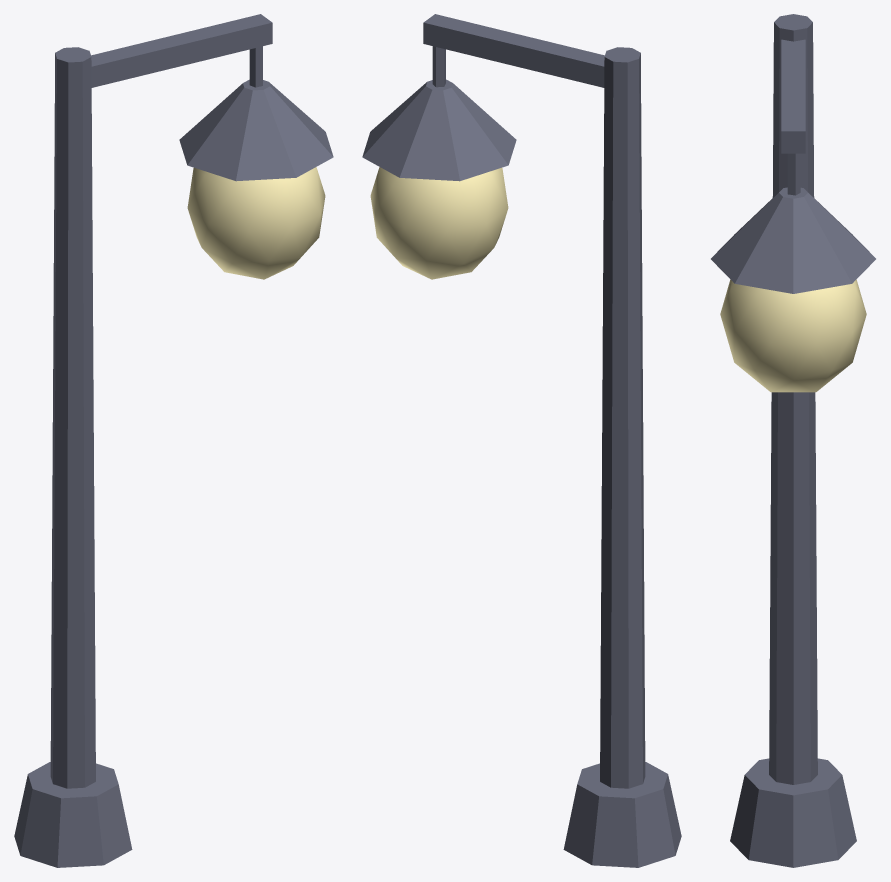
File: lamp.fbx
The picture shows the model from 3 angles, left to right: view 1: azimuth 30°, elevation 25°; view 2: azimuth 150°, elevation 25°; view 3: azimuth 270°, elevation 25°; orthographic projection. The views are drawn at different scales.
Parts seen in each view (by area): view 1: Metal_lamp, Glow_lamp; view 2: Metal_lamp, Glow_lamp; view 3: Metal_lamp, Glow_lamp.
Boxes of the visible parts, x1,y1,x2,y2 form: Metal_lamp: (14,14,333,867); Glow_lamp: (187,167,325,279); Metal_lamp: (362,14,681,867); Glow_lamp: (370,167,508,279); Metal_lamp: (711,14,875,867); Glow_lamp: (720,279,866,392).
Bounding box in the file's own units: 1.5 × 3.7 × 0.68.
